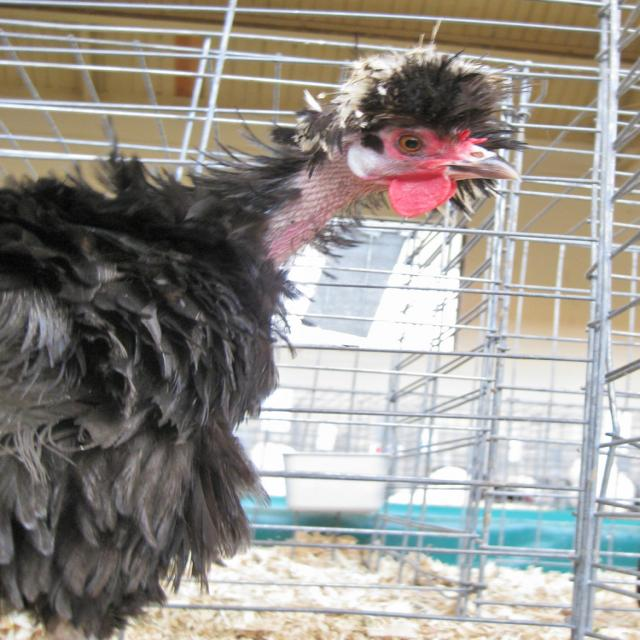Chicken: (0, 39, 535, 640)
